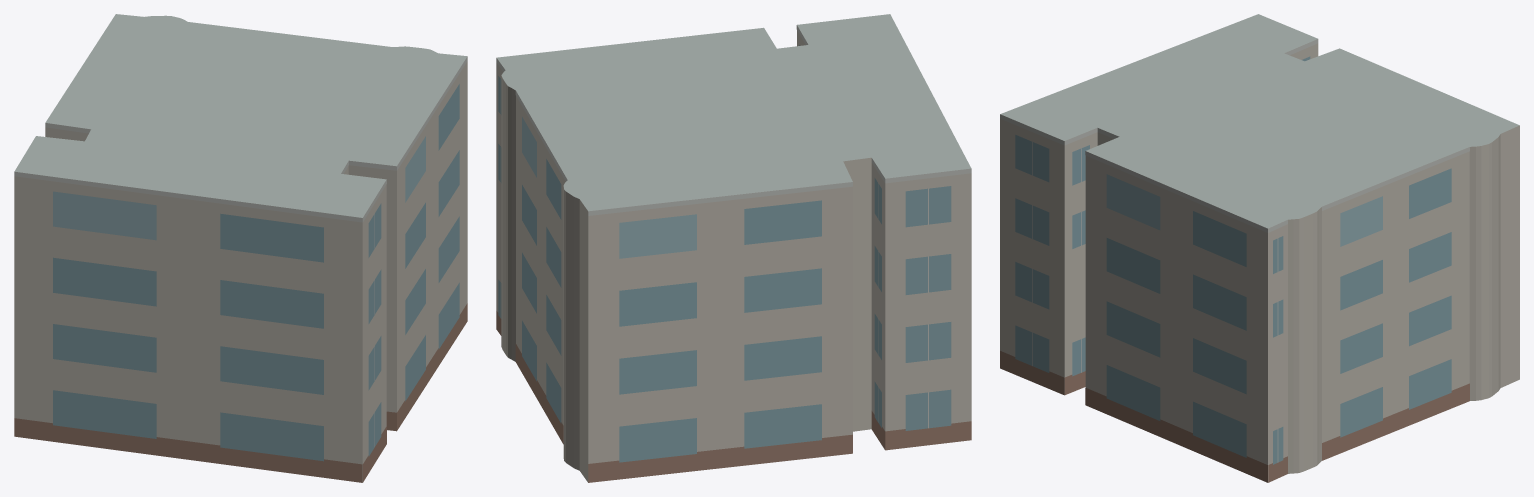
Rendered from survey-upis-32598001.glb.
The picture shows the model from 3 angles, left to right: view 1: azimuth 30°, elevation 25°; view 2: azimuth 150°, elevation 25°; view 3: azimuth 270°, elevation 25°; orthographic projection. The views are drawn at different scales.
Visible parts, largest first — view 1: survey-upis-32598001.tmp; view 2: survey-upis-32598001.tmp; view 3: survey-upis-32598001.tmp.
Boxes of the visible parts, x1,y1,x2,y2 form: survey-upis-32598001.tmp: (14, 14, 467, 482); survey-upis-32598001.tmp: (496, 14, 971, 482); survey-upis-32598001.tmp: (1000, 14, 1519, 482).
Size of the model in its own units: 25.41 by 14.03 by 26.
